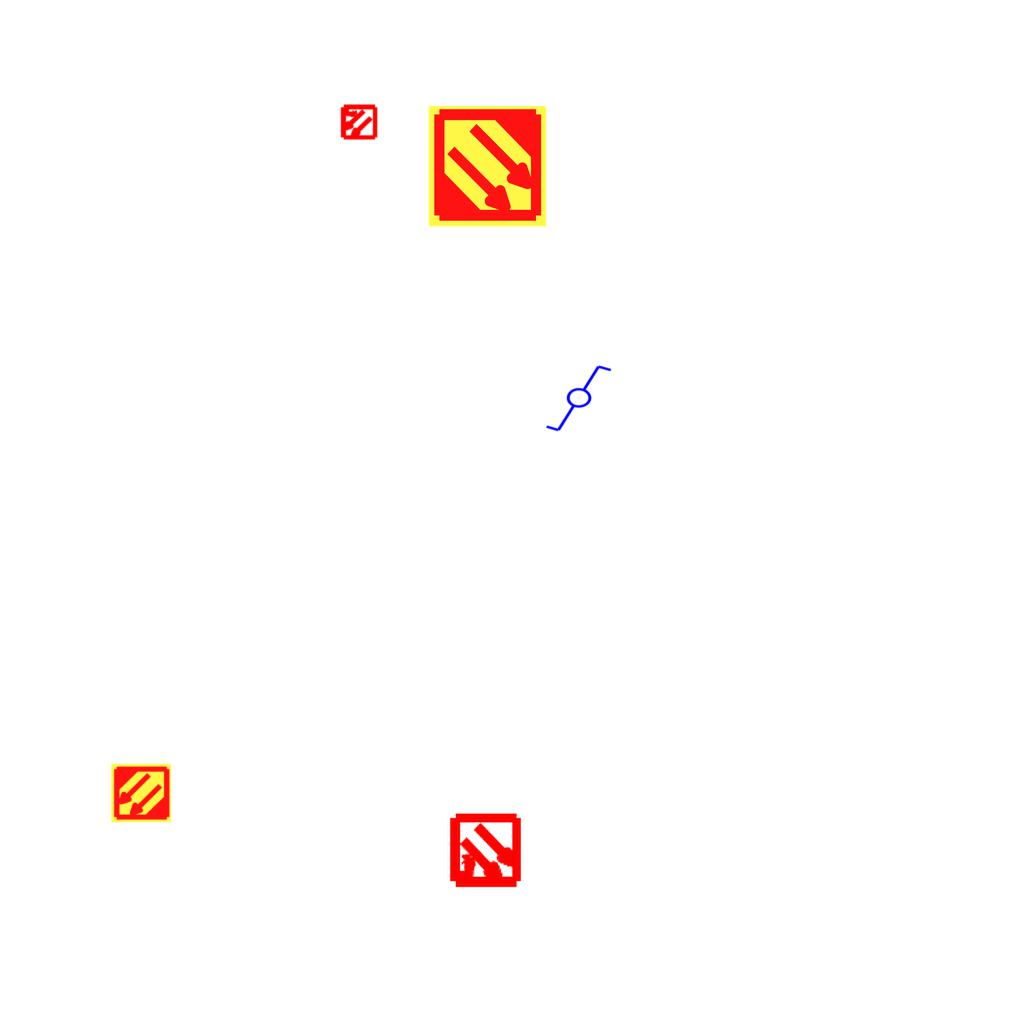ASR_Ansaugrauchmelder: (425, 104, 550, 229), (110, 762, 172, 824)
OT_Multisensormelder_(Kombination_RMO_WMD): (429, 796, 542, 909), (330, 94, 386, 150)
Wechselschalter: (544, 363, 622, 435)
